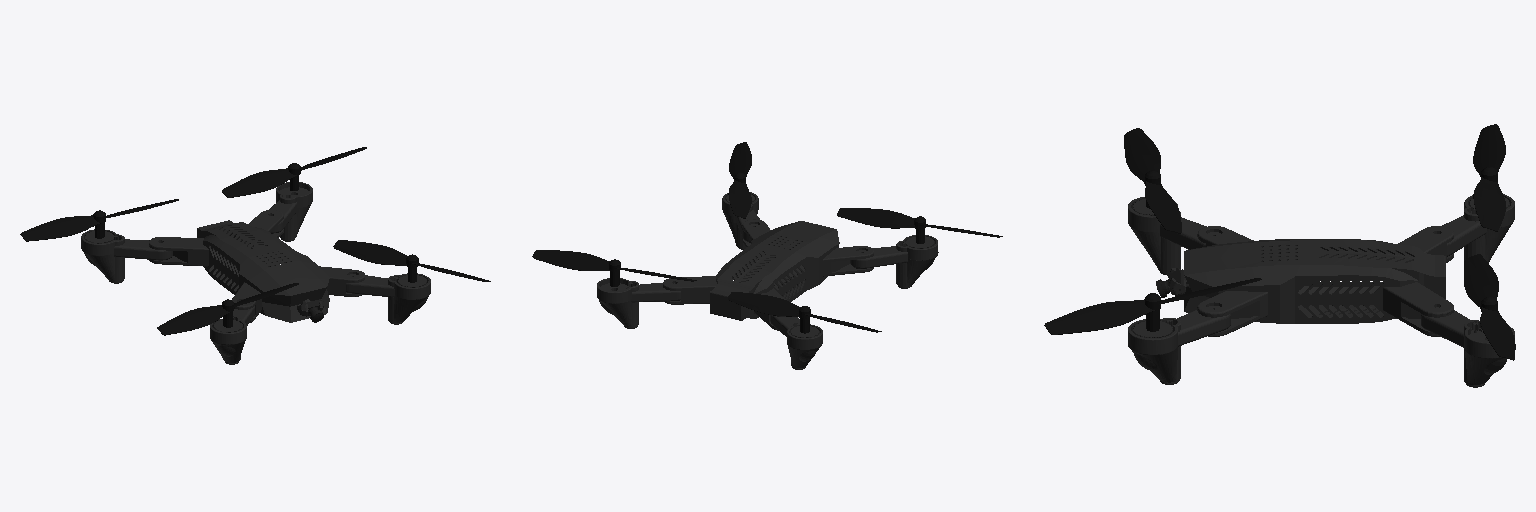
The robot description file, URDF, robot "quadcopter":
<?xml version="1.0" encoding="utf-8"?>
<!-- This URDF was automatically created by SolidWorks to URDF Exporter! Originally created by [author] ([email redacted]) 
     Commit Version: 1.6.0-4-g7f85cfe  Build Version: 1.6.7995.38578
     For more information, please see http://wiki.ros.org/sw_urdf_exporter -->
<robot
  name="quadcopter">
  <link
    name="base_link">
    <inertial>
      <origin
        xyz="-0.001341 0.0013417 -0.0029971"
        rpy="0 0 0" />
      <mass
        value="0.13344" />
      <inertia
        ixx="0.00011864"
        ixy="-3.3364E-11"
        ixz="-1.7123E-10"
        iyy="5.5982E-05"
        iyz="-1.3427E-07"
        izz="0.00015929" />
    </inertial>
    <visual>
      <origin
        xyz="0 0 0"
        rpy="0 0 0" />
      <geometry>
        <mesh
          filename="package://quadcopter/meshes/base_link.STL" />
      </geometry>
      <material
        name="">
        <color
          rgba="0.2 0.2 0.2 1" />
      </material>
    </visual>
    <collision>
      <origin
        xyz="0 0 0"
        rpy="0 0 0" />
      <geometry>
        <mesh
          filename="package://quadcopter/meshes/base_link.STL" />
      </geometry>
    </collision>
  </link>
  <link
    name="link_propeller_1">
    <inertial>
      <origin
        xyz="1.0253E-07 0.014059 3.7818E-09"
        rpy="0 0 0" />
      <mass
        value="0.0024223" />
      <inertia
        ixx="9.9396E-08"
        ixy="-7.8073E-13"
        ixz="6.5339E-09"
        iyy="1.937E-06"
        iyz="6.729E-14"
        izz="1.974E-06" />
    </inertial>
    <visual>
      <origin
        xyz="0 0 0"
        rpy="0 0 0" />
      <geometry>
        <mesh
          filename="package://quadcopter/meshes/link_propeller_1.STL" />
      </geometry>
      <material
        name="">
        <color
          rgba="0.1 0.1 0.1 1" />
      </material>
    </visual>
    <collision>
      <origin
        xyz="0 0 0"
        rpy="0 0 0" />
      <geometry>
        <mesh
          filename="package://quadcopter/meshes/link_propeller_1.STL" />
      </geometry>
    </collision>
  </link>
  <joint
    name="propeller_1"
    type="continuous">
    <origin
      xyz="0.090799 0.10341 0.009"
      rpy="1.5708 0 0.14191" />
    <parent
      link="base_link" />
    <child
      link="link_propeller_1" />
    <axis
      xyz="0 0 1" />
    <limit
      effort="10"
      velocity="1000" />
  </joint>
  <link
    name="link_propeller_2">
    <inertial>
      <origin
        xyz="1.0253E-07 0.014059 3.7817E-09"
        rpy="0 0 0" />
      <mass
        value="0.0024223" />
      <inertia
        ixx="9.9396E-08"
        ixy="-7.8072E-13"
        ixz="6.5339E-09"
        iyy="1.937E-06"
        iyz="6.7291E-14"
        izz="1.974E-06" />
    </inertial>
    <visual>
      <origin
        xyz="0 0 0"
        rpy="0 0 0" />
      <geometry>
        <mesh
          filename="package://quadcopter/meshes/link_propeller_2.STL" />
      </geometry>
      <material
        name="">
        <color
          rgba="0.1 0.1 0.1 1" />
      </material>
    </visual>
    <collision>
      <origin
        xyz="0 0 0"
        rpy="0 0 0" />
      <geometry>
        <mesh
          filename="package://quadcopter/meshes/link_propeller_2.STL" />
      </geometry>
    </collision>
  </link>
  <joint
    name="propeller_2"
    type="continuous">
    <origin
      xyz="-0.090799 0.10341 0.009"
      rpy="1.5708 0 0" />
    <parent
      link="base_link" />
    <child
      link="link_propeller_2" />
    <axis
      xyz="0 0 1" />
    <limit
      lower="0"
      upper="0"
      effort="10"
      velocity="1000" />
  </joint>
  <link
    name="link_propeller_3">
    <inertial>
      <origin
        xyz="1.0253E-07 0.014059 3.7816E-09"
        rpy="0 0 0" />
      <mass
        value="0.0024223" />
      <inertia
        ixx="9.9396E-08"
        ixy="-7.8072E-13"
        ixz="6.5339E-09"
        iyy="1.937E-06"
        iyz="6.7292E-14"
        izz="1.974E-06" />
    </inertial>
    <visual>
      <origin
        xyz="0 0 0"
        rpy="0 0 0" />
      <geometry>
        <mesh
          filename="package://quadcopter/meshes/link_propeller_3.STL" />
      </geometry>
      <material
        name="">
        <color
          rgba="0.1 0.1 0.1 1" />
      </material>
    </visual>
    <collision>
      <origin
        xyz="0 0 0"
        rpy="0 0 0" />
      <geometry>
        <mesh
          filename="package://quadcopter/meshes/link_propeller_3.STL" />
      </geometry>
    </collision>
  </link>
  <joint
    name="propeller_3"
    type="continuous">
    <origin
      xyz="0.085895 -0.09579 0.009"
      rpy="1.5708 0 2.0866" />
    <parent
      link="base_link" />
    <child
      link="link_propeller_3" />
    <axis
      xyz="0 0 1" />
    <limit
      lower="0"
      upper="0"
      effort="10"
      velocity="1000" />
  </joint>
  <link
    name="link_propeller_4">
    <inertial>
      <origin
        xyz="1.0253E-07 0.014059 3.7817E-09"
        rpy="0 0 0" />
      <mass
        value="0.0024223" />
      <inertia
        ixx="9.9396E-08"
        ixy="-7.8072E-13"
        ixz="6.5339E-09"
        iyy="1.937E-06"
        iyz="6.7291E-14"
        izz="1.974E-06" />
    </inertial>
    <visual>
      <origin
        xyz="0 0 0"
        rpy="0 0 0" />
      <geometry>
        <mesh
          filename="package://quadcopter/meshes/link_propeller_4.STL" />
      </geometry>
      <material
        name="">
        <color
          rgba="0.1 0.1 0.1 1" />
      </material>
    </visual>
    <collision>
      <origin
        xyz="0 0 0"
        rpy="0 0 0" />
      <geometry>
        <mesh
          filename="package://quadcopter/meshes/link_propeller_4.STL" />
      </geometry>
    </collision>
  </link>
  <joint
    name="propeller_4"
    type="continuous">
    <origin
      xyz="-0.085895 -0.09579 0.009"
      rpy="1.5708 0 0.17226" />
    <parent
      link="base_link" />
    <child
      link="link_propeller_4" />
    <axis
      xyz="0 0 1" />
    <limit
      lower="0"
      upper="0"
      effort="10"
      velocity="1000" />
  </joint>
  <link
    name="link_camera">
    <inertial>
      <origin
        xyz="0 0 0"
        rpy="0 0 0" />
      <mass
        value="0.01" />
      <inertia
        ixx="1e-6"
        ixy="0"
        ixz="0"
        iyy="1e-6"
        iyz="0"
        izz="1e-6" />
    </inertial>
    <visual>
      <origin
        xyz="0 0 0"
        rpy="0 0 0" />
      <geometry>
        <mesh
          filename="package://quadcopter/meshes/link_camera.STL" />
      </geometry>
      <material
        name="">
        <color
          rgba="0.15 0.15 0.15 1" />
      </material>
    </visual>
    <collision>
      <origin
        xyz="0 0 0"
        rpy="0 0 0" />
      <geometry>
        <mesh
          filename="package://quadcopter/meshes/link_camera.STL" />
      </geometry>
    </collision>
  </link>
  <joint
    name="camera"
    type="fixed">
    <origin
      xyz="0 -0.079 0"
      rpy="-1.5708 -1.176 -1.5708" />
    <parent
      link="base_link" />
    <child
      link="link_camera" />
    <axis
      xyz="0 0 0" />
  </joint>

  <gazebo reference="link_camera">
    <sensor name="camera" type="camera">
      <always_on>1</always_on>
      <update_rate>30</update_rate>
      <visualize>true</visualize>
      <topic>camera</topic>
      <camera name="head">
        <horizontal_fov>1.3962634</horizontal_fov>
        <image>
          <width>800</width>
          <height>800</height>
          <format>R8G8B8</format>
        </image>
        <clip>
          <near>0.02</near>
          <far>300</far>
        </clip>
        <noise>
          <type>gaussian</type>
          <mean>0.0</mean>
          <stddev>0.007</stddev>
        </noise>
      </camera>
    </sensor>
  </gazebo>

  <!-- Joint State Publisher Plugin for Gazebo Garden -->
  <gazebo>
    <plugin filename="gz-sim-joint-state-publisher-system" 
            name="gz::sim::systems::JointStatePublisher">
      <topic>joint_states</topic>
      <joint_name>propeller_1</joint_name>
      <joint_name>propeller_2</joint_name>
      <joint_name>propeller_3</joint_name>
      <joint_name>propeller_4</joint_name>
    </plugin>
  </gazebo>

</robot>

--- What the picture shows (computed from the rendered views, not written in the file) ---
3 views of the same robot in one strip: view 1: azimuth 30°, elevation 25°; view 2: azimuth 150°, elevation 25°; view 3: azimuth 270°, elevation 25° (orthographic).
Model quadcopter with 6 links and 5 joints (4 continuous, 1 fixed), rooted at base_link, posed every joint at zero.
Links seen in each view (by area): view 1: base_link, link_propeller_2, link_propeller_3, link_propeller_4, link_propeller_1; view 2: base_link, link_propeller_1, link_propeller_4, link_propeller_2, link_propeller_3; view 3: base_link, link_propeller_3, link_propeller_4, link_propeller_1, link_propeller_2.
Link boxes in pixels (<box>): base_link: <box>81,182,430,364</box>; link_propeller_2: <box>20,199,178,241</box>; link_propeller_3: <box>333,240,490,282</box>; link_propeller_4: <box>157,283,298,335</box>; link_propeller_1: <box>222,147,366,197</box>; base_link: <box>597,192,938,369</box>; link_propeller_1: <box>532,250,696,286</box>; link_propeller_4: <box>837,208,1002,243</box>; link_propeller_2: <box>728,292,881,333</box>; link_propeller_3: <box>728,142,751,218</box>; base_link: <box>1128,194,1514,387</box>; link_propeller_3: <box>1044,278,1261,334</box>; link_propeller_4: <box>1124,128,1181,233</box>; link_propeller_1: <box>1464,254,1515,360</box>; link_propeller_2: <box>1473,124,1505,231</box>.
Size in the robot's own frame: 0.3252 by 0.2787 by 0.0615 metres.
Meshes: 6 distinct files referenced, 6 mesh visuals loaded (6 binary STL).